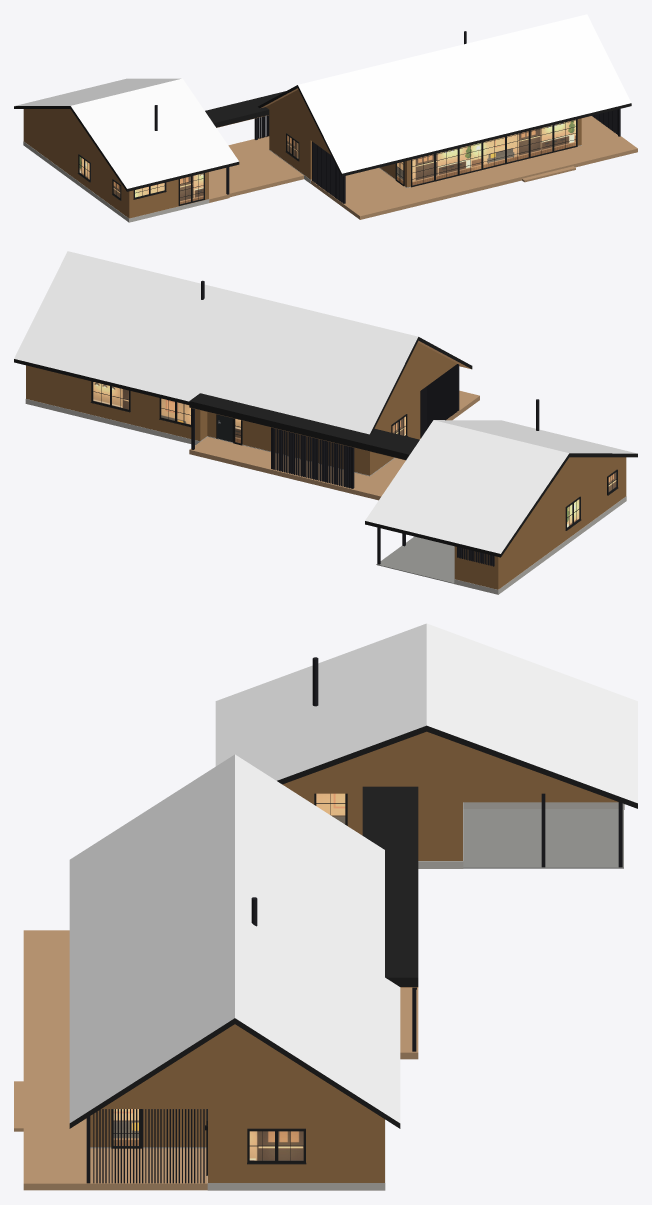
Rendered from thetis353_c0_p0_m1.glb.
3 renders of one model, top to bottom at view 1: azimuth 30°, elevation 25°; view 2: azimuth 150°, elevation 25°; view 3: azimuth 270°, elevation 25°, orthographic. The views are drawn at different scales.
Visible parts, largest first — view 1: roof, deck, wall, room, glass, fascia, frame, metal, plinth; view 2: roof, wall, fascia, metal, deck, paving, plinth, room, glass, frame; view 3: roof, wall, deck, fascia, paving, metal, plinth, room, glass, frame.
Part boxes in pixels (x1,y1,x2,y2): roof: (14, 14, 631, 188); deck: (209, 116, 637, 219); wall: (23, 89, 581, 218); room: (79, 119, 575, 204); glass: (80, 121, 575, 203); fascia: (14, 85, 631, 191); frame: (77, 119, 577, 205); metal: (154, 31, 620, 203); plinth: (23, 141, 581, 222); roof: (14, 251, 636, 553); wall: (26, 342, 626, 589); fascia: (14, 337, 637, 557); metal: (191, 280, 539, 566); deck: (189, 390, 479, 500); paving: (376, 536, 454, 583); plinth: (25, 399, 626, 594); room: (93, 382, 616, 527); glass: (93, 382, 615, 526); frame: (90, 381, 618, 530); roof: (69, 623, 637, 1122); wall: (90, 731, 618, 1182); deck: (14, 930, 418, 1190); fascia: (69, 725, 637, 1128); paving: (463, 809, 623, 868); metal: (86, 657, 622, 1183); plinth: (90, 802, 624, 1190); room: (113, 793, 345, 1160); glass: (116, 794, 344, 1160); frame: (111, 793, 347, 1175).
Bounding box in the file's own units: 36.09 × 7.58 × 22.45.
Materials: 15 (5 with a texture image).
